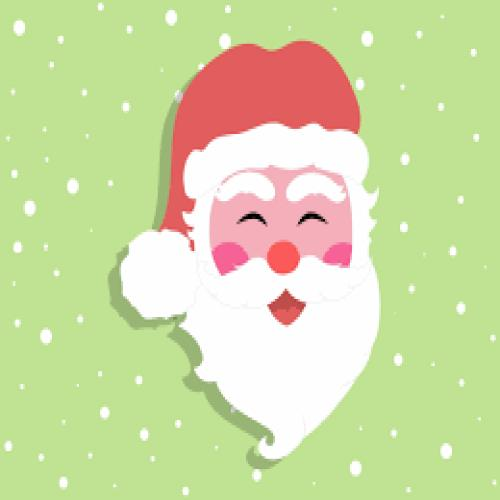Santa: (119, 39, 383, 464)
